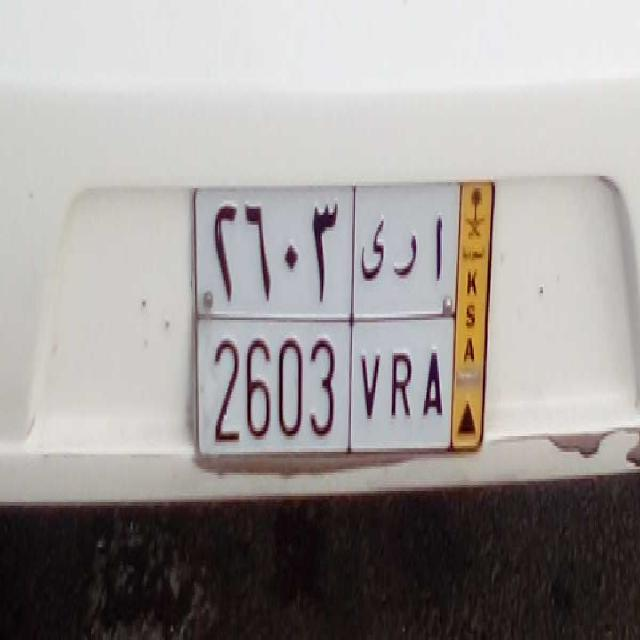license_plate: (198, 313, 452, 450)
